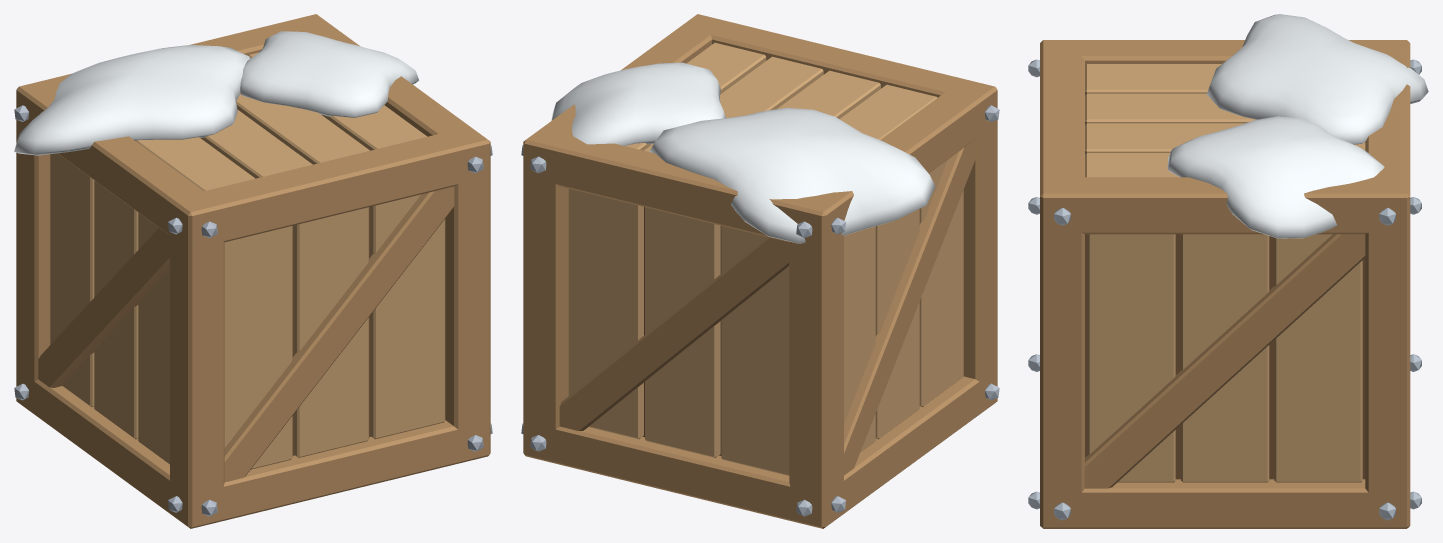
Rendered from Env_WoodCrate.glb.
The picture shows the model from 3 angles, left to right: view 1: azimuth 30°, elevation 25°; view 2: azimuth 150°, elevation 25°; view 3: azimuth 270°, elevation 25°; orthographic projection. The views are drawn at different scales.
Visible parts, largest first — view 1: Env_WoodCrate_Body, Env_WoodCrate_Snow; view 2: Env_WoodCrate_Body, Env_WoodCrate_Snow; view 3: Env_WoodCrate_Body, Env_WoodCrate_Snow.
Boxes of the visible parts, x1=… form: Env_WoodCrate_Body: x1=14, y1=14, x2=492, y2=528; Env_WoodCrate_Snow: x1=14, y1=31, x2=418, y2=155; Env_WoodCrate_Body: x1=521, y1=14, x2=999, y2=528; Env_WoodCrate_Snow: x1=551, y1=62, x2=935, y2=243; Env_WoodCrate_Body: x1=1028, y1=40, x2=1421, y2=528; Env_WoodCrate_Snow: x1=1167, y1=14, x2=1428, y2=238.
Size of the model in its own units: 0.7128 by 0.608 by 0.6057.
